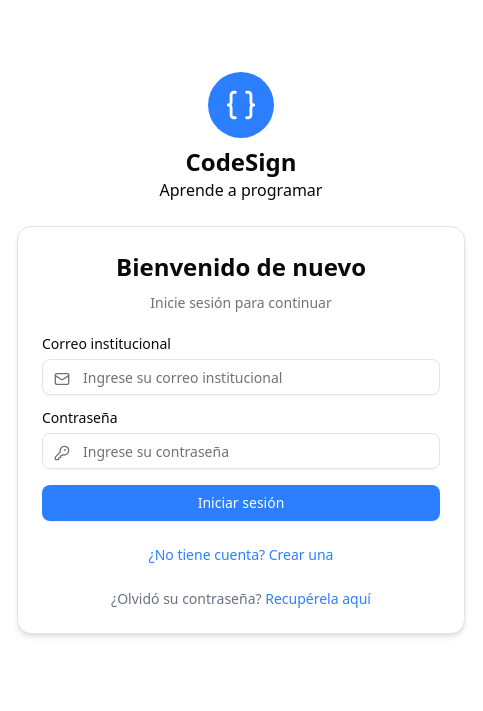
Test: AuthLayout › clears error when switching between forms
In the field with test id "email-input": (241, 377) x1=42 y1=359 x2=440 y2=395, type "test@example.com"
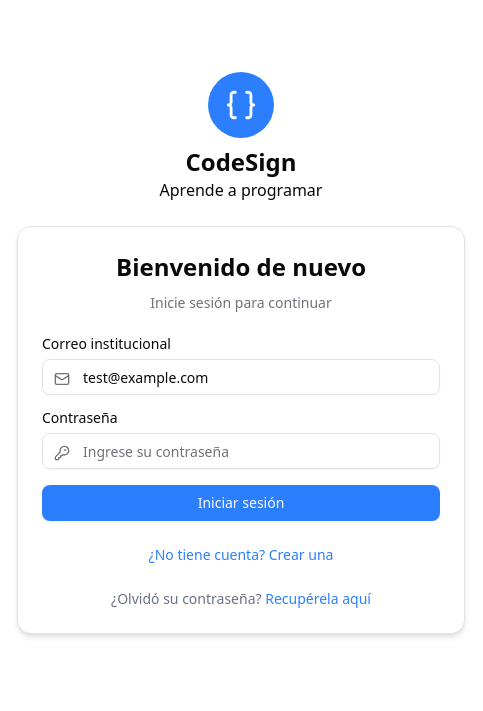
In the password field with test id "password-input": (241, 451) x1=42 y1=433 x2=440 y2=469, type "wrongpassword"
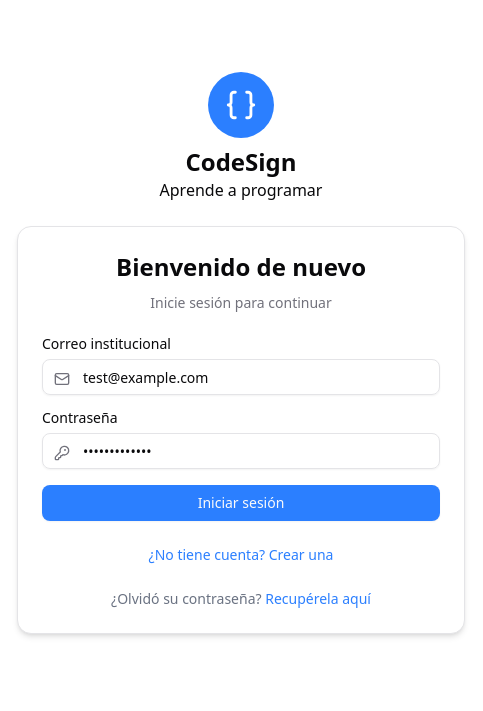
Click the button with test id "login-submit": (241, 503) x1=42 y1=485 x2=440 y2=521
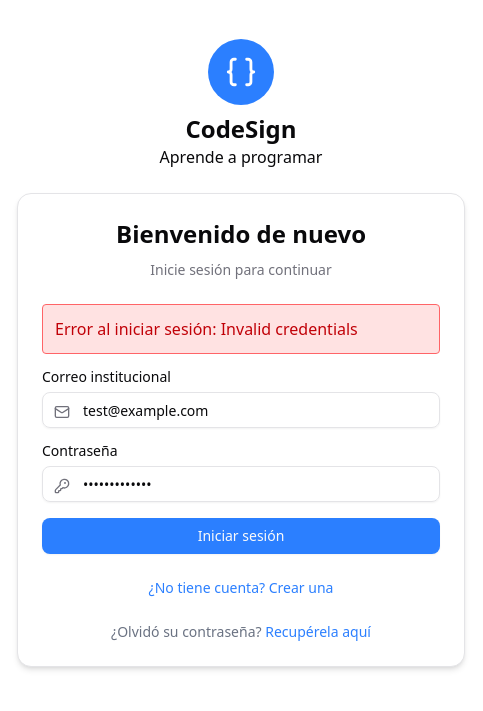
Now the text "Error al iniciar sesión: Invalid credentials" is shown, box x1=42 y1=304 x2=440 y2=354
// Switch to signup form
Click the button with test id "auth-mode-toggle": (241, 588) x1=133 y1=570 x2=349 y2=606
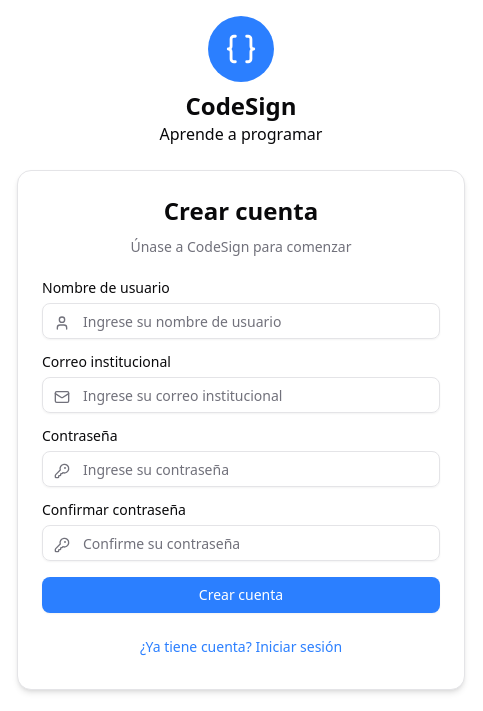
Now the text with test id "auth-error" is gone
